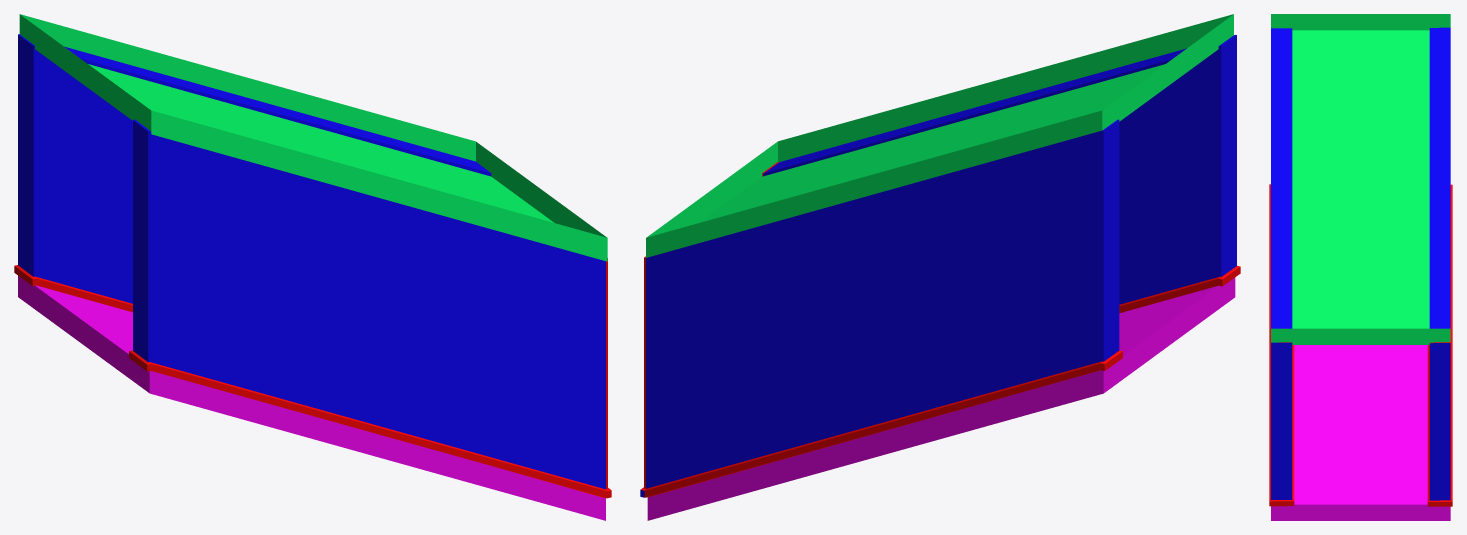
Rendered from stair.fbx.
The picture shows the model from 3 angles, left to right: view 1: azimuth 30°, elevation 25°; view 2: azimuth 150°, elevation 25°; view 3: azimuth 270°, elevation 25°; orthographic projection. The views are drawn at different scales.
Parts seen in each view (by area): view 1: Wall002, stairCase001, Wall006, stairCase; view 2: Wall006, stairCase001, Wall002, stairCase; view 3: stairCase001, stairCase, Wall006, Wall002.
Boxes of the visible parts, x1,y1,x2,y2 form: Wall002: [129, 119, 611, 498]; stairCase001: [19, 14, 607, 261]; Wall006: [14, 34, 491, 312]; stairCase: [18, 276, 605, 520]; Wall006: [640, 119, 1122, 497]; stairCase001: [646, 14, 1233, 257]; Wall002: [762, 35, 1240, 313]; stairCase: [647, 277, 1235, 520]; stairCase001: [1271, 14, 1450, 344]; stairCase: [1271, 345, 1450, 520]; Wall006: [1427, 27, 1452, 506]; Wall002: [1269, 28, 1294, 506].
Size of the model in its own units: 204 by 218 by 102.
